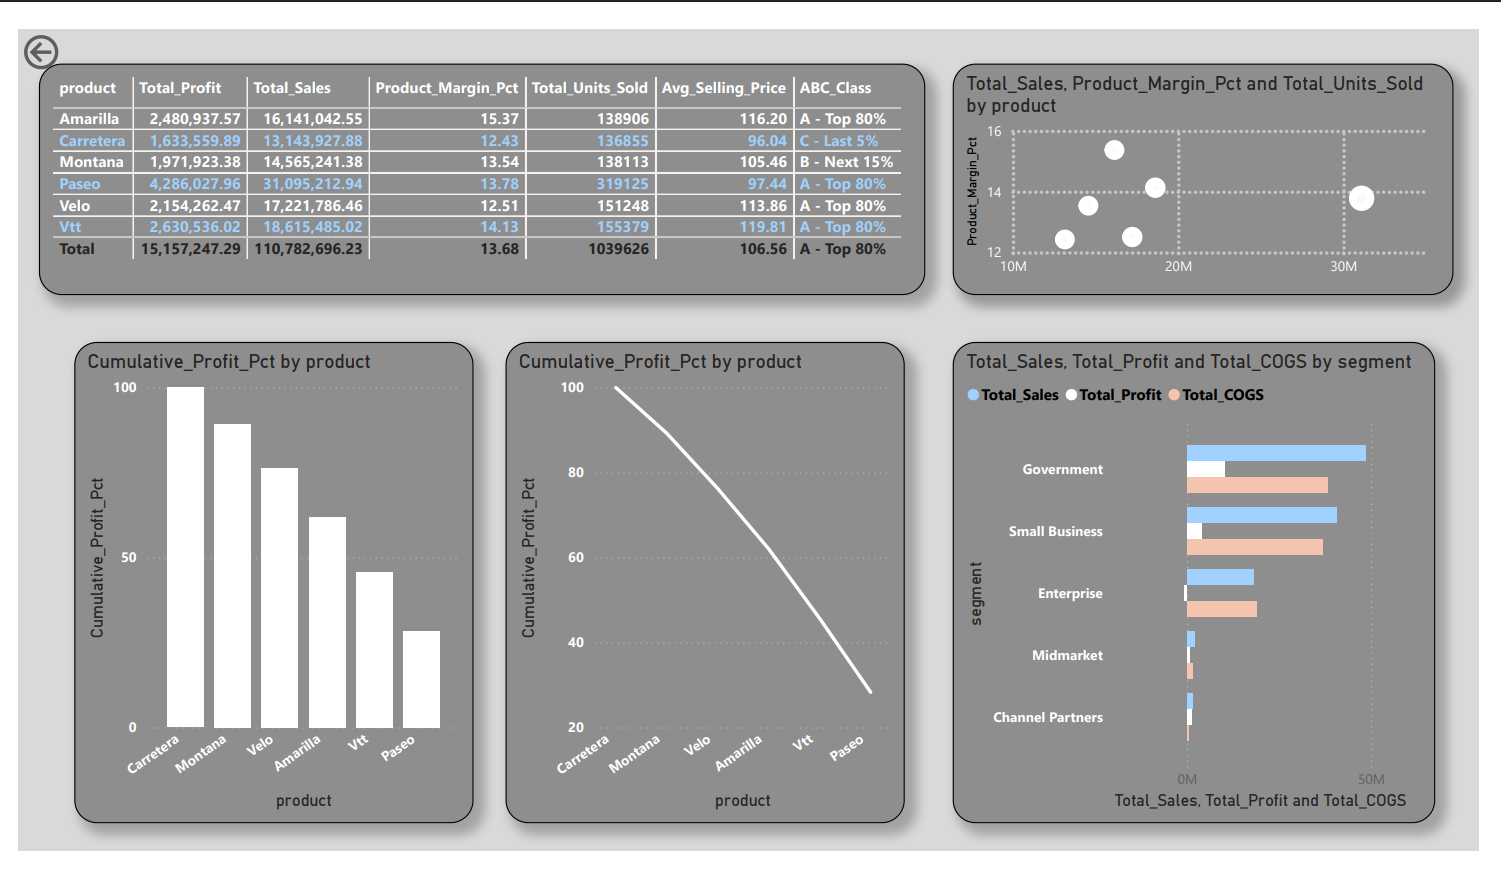

The dashboard page shown, as its layout file describes it:
{"tool":"powerbi","page":{"name":"Page 4","canvas":[1280,720],"ordinal":3},"visuals":[{"type":"lineChart","fields":{"Category":["financial_operations_db fact_sales.product"],"Y":["_Product_Analysis_Measures.Cumulative_Profit_Pct"]},"box":[426.8,274.4,349.9,421.3],"z":0},{"type":"clusteredColumnChart","fields":{"Category":["financial_operations_db fact_sales.product"],"Y":["_Product_Analysis_Measures.Cumulative_Profit_Pct"]},"box":[49.4,274.4,349.9,421.3],"z":1000},{"type":"tableEx","fields":{"Values":["financial_operations_db fact_sales.product","_Measures.Total_Profit","_Measures.Total_Sales","_Product_Analysis_Measures.Product_Margin_Pct","_Measures.Total_Units_Sold","_Product_Analysis_Measures.Avg_Selling_Price","_Product_Analysis_Measures.ABC_Class"]},"box":[17.8,30.2,776.7,203.1],"z":2000},{"type":"actionButton","box":[0,0,100,40],"z":3000},{"type":"clusteredBarChart","fields":{"Category":["financial_operations_db fact_sales.segment"],"Y":["_Measures.Total_Sales","_Measures.Total_Profit","_Measures.Total_COGS"]},"box":[819.2,274.4,422.6,421.3],"z":4000},{"type":"scatterChart","fields":{"Size":["_Measures.Total_Units_Sold"],"Category":["financial_operations_db fact_sales.product"],"X":["_Measures.Total_Sales"],"Y":["_Product_Analysis_Measures.Product_Margin_Pct"]},"box":[819.2,30.2,439.1,203.1],"z":5000}]}

Visuals, with their boxes in screenshot pixels (x1, y1, x2, y2):
lineChart - financial_operations_db fact_sales.product x _Product_Analysis_Measures.Cumulative_Profit_Pct: (x1=501, y1=341, x2=906, y2=828)
clusteredColumnChart - financial_operations_db fact_sales.product x _Product_Analysis_Measures.Cumulative_Profit_Pct: (x1=65, y1=341, x2=470, y2=828)
tableEx - financial_operations_db fact_sales.product x _Measures.Total_Profit: (x1=28, y1=58, x2=927, y2=293)
actionButton: (x1=8, y1=23, x2=123, y2=70)
clusteredBarChart - financial_operations_db fact_sales.segment x _Measures.Total_Sales: (x1=955, y1=341, x2=1444, y2=828)
scatterChart - _Measures.Total_Units_Sold x financial_operations_db fact_sales.product: (x1=955, y1=58, x2=1463, y2=293)
